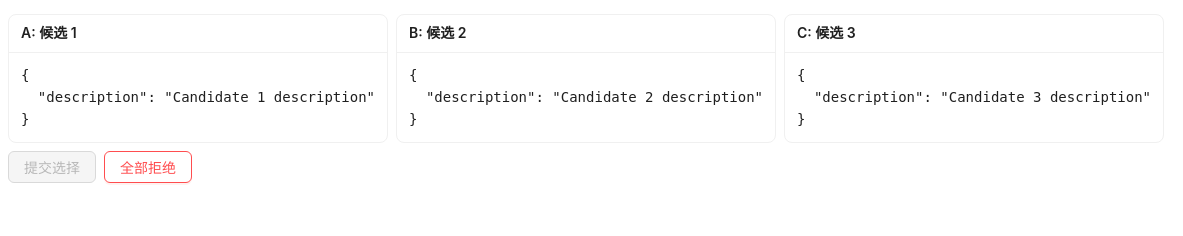
Test case: ConflictResolver multi-candidate card selection › highlights selected card and shows edit button
The width and height of the screenshot is (1183, 236).
Click on the second card (B)
Step 1. Click the text "B: 候选 2 { \"description\": \"Candidate 2 description\" }" → (586, 78), box top-left (396, 14), bottom-right (776, 142)
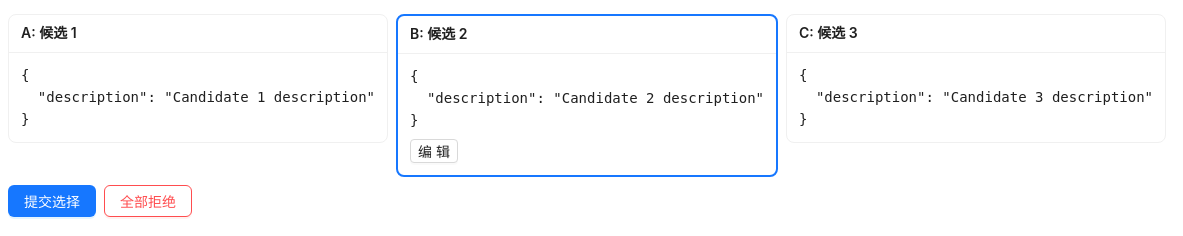
Result: the button "编 辑" is shown at top-left (410, 138), bottom-right (458, 162)
